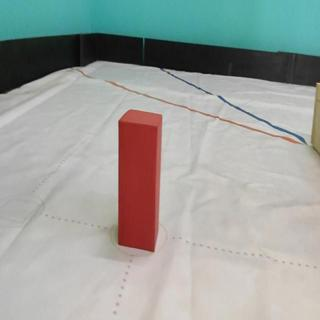redbox: (117, 107, 163, 252)
